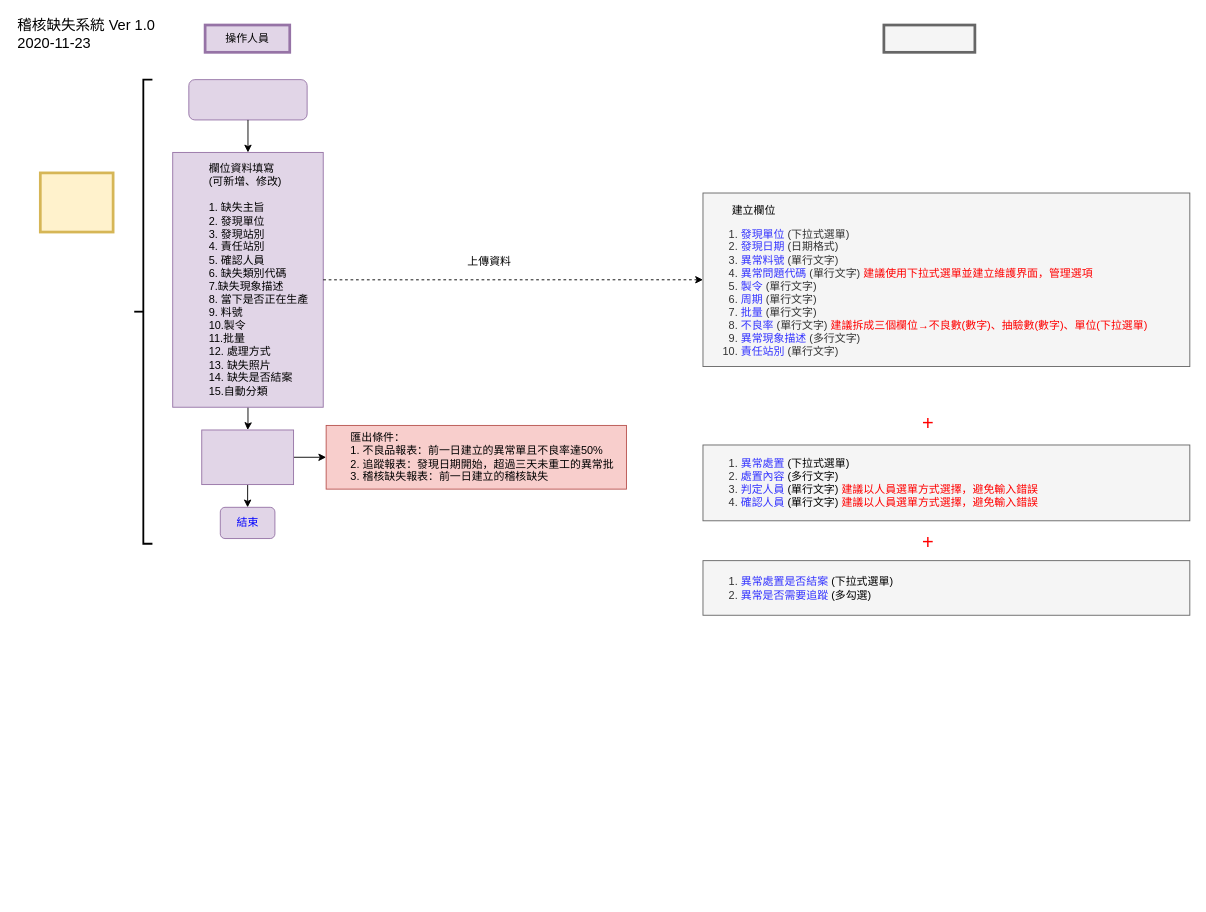
This 1206x912 diagram has some shape labels left out. The centre of each missing label's shape, as x and y in pixels:
"前研開發" goes at point (929, 38).
"可供編輯、 匯出檔案" goes at point (247, 457).
"由平板端進入 製程稽核缺失系統" goes at point (247, 99).
"發現單位 的人員" goes at point (76, 202).
